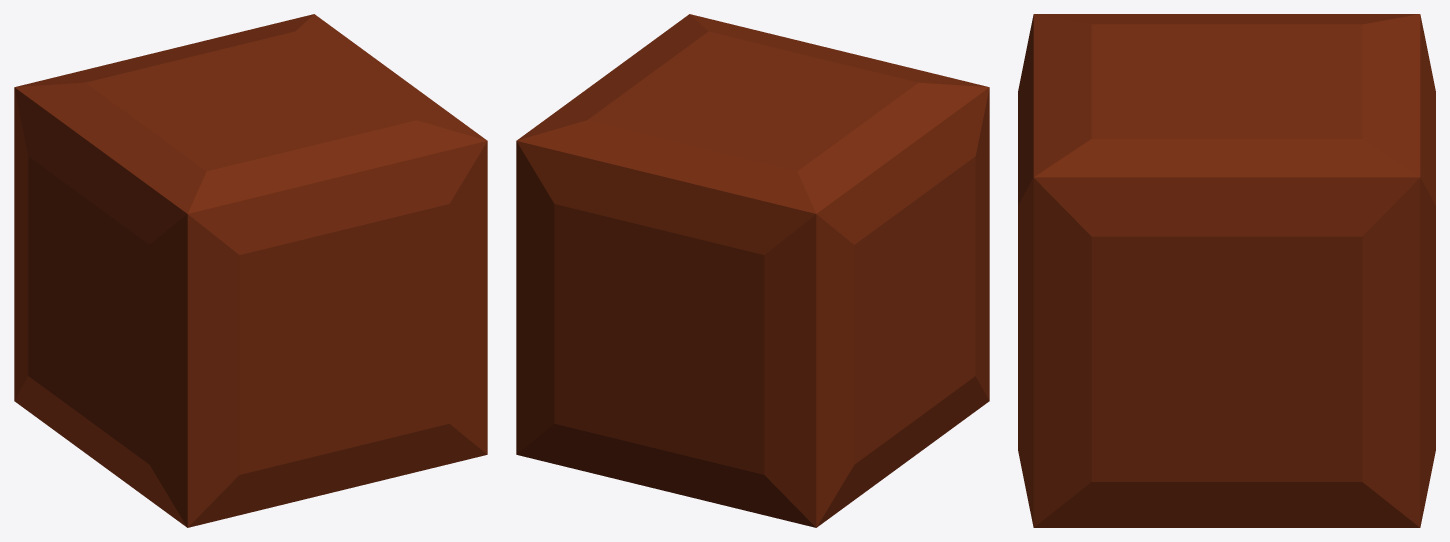
The model's file is Brick02.FBX.
3 renders of one model, left to right at view 1: azimuth 30°, elevation 25°; view 2: azimuth 150°, elevation 25°; view 3: azimuth 270°, elevation 25°, orthographic. The views are drawn at different scales.
Parts seen in each view (by area): view 1: Box001; view 2: Box001; view 3: Box001.
Boxes of the visible parts, left/top/right/bottom form: Box001: left=14, top=14, right=487, bottom=527; Box001: left=516, top=14, right=989, bottom=527; Box001: left=1018, top=14, right=1435, bottom=527.
Size of the model in its own units: 213 by 213 by 213.
